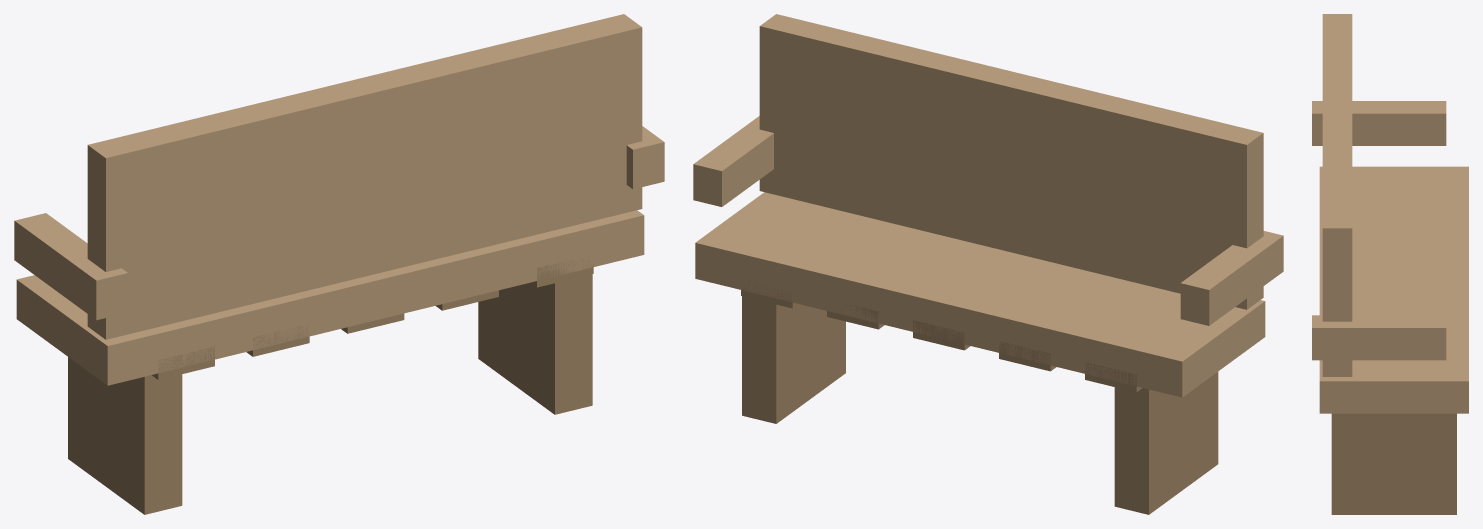
The model's file is bench.glb.
3 renders of one model, left to right at view 1: azimuth 30°, elevation 25°; view 2: azimuth 150°, elevation 25°; view 3: azimuth 270°, elevation 25°, orthographic. The views are drawn at different scales.
Visible parts, largest first — view 1: BnBack, BnSeat, BnLegL, BnLegR, BnArmL, BnArmR, BnSlat, BnSlat.004, BnSlat.001; view 2: BnBack, BnSeat, BnLegL, BnLegR, BnArmL, BnArmR, BnSlat.002, BnSlat, BnSlat.001; view 3: BnSeat, BnLegR, BnBack, BnArmR, BnArmL.
Boxes of the visible parts, x1,y1,x2,y2 form: BnBack: (87,14,642,339); BnSeat: (16,210,644,385); BnLegL: (68,357,182,514); BnLegR: (478,274,592,414); BnArmL: (14,213,127,320); BnArmR: (626,126,664,189); BnSlat: (151,346,214,379); BnSlat.004: (530,256,593,287); BnSlat.001: (246,324,309,356); BnBack: (759,14,1263,309); BnSeat: (695,192,1265,397); BnLegL: (1114,372,1218,514); BnLegR: (742,296,845,423); BnArmL: (1180,231,1283,325); BnArmR: (693,116,773,206); BnSlat.002: (913,320,970,350); BnSlat: (1085,362,1142,392); BnSlat.001: (999,341,1056,371); BnSeat: (1319,166,1468,413); BnLegR: (1331,413,1456,514); BnBack: (1322,14,1352,376); BnArmR: (1312,315,1446,360); BnArmL: (1312,101,1446,145).
Bounding box in the file's own units: 1.8 × 1.13 × 0.525.
